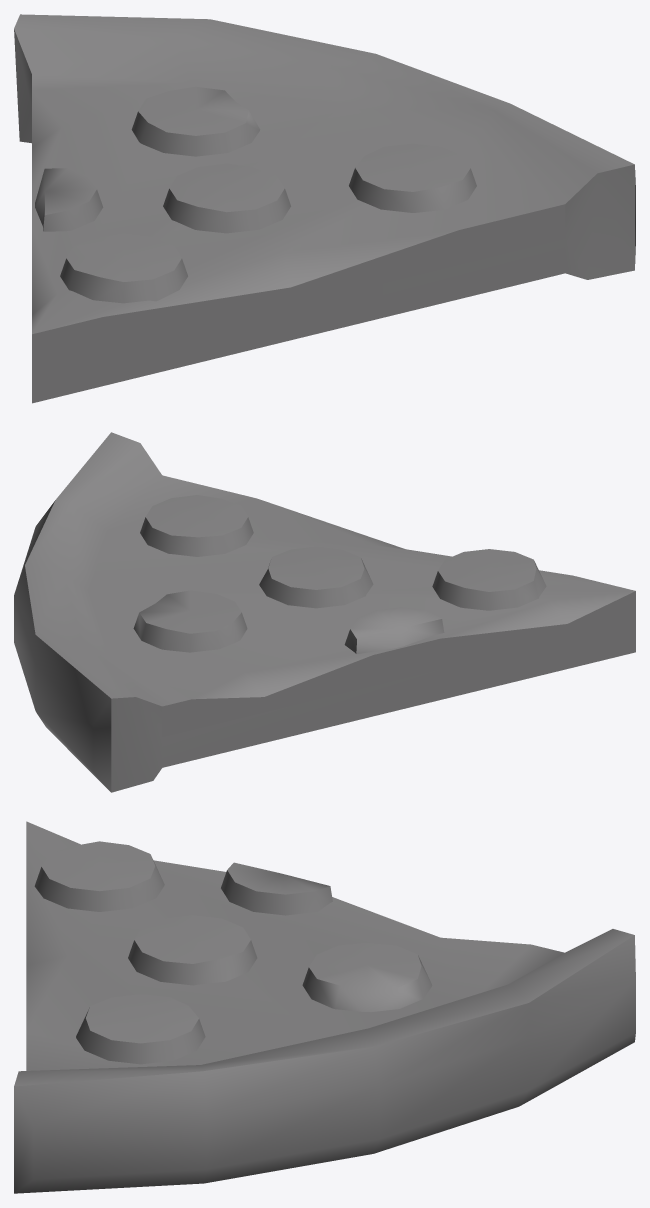
File: SM_Pizza_02.obj
3 renders of one model, top to bottom at view 1: azimuth 30°, elevation 25°; view 2: azimuth 150°, elevation 25°; view 3: azimuth 270°, elevation 25°, orthographic. The views are drawn at different scales.
Visible parts, largest first — view 1: SM_Pizza_02_Mat_PolygonCity_Texture_01_A; view 2: SM_Pizza_02_Mat_PolygonCity_Texture_01_A; view 3: SM_Pizza_02_Mat_PolygonCity_Texture_01_A.
Part boxes in pixels (bbox=[...]): SM_Pizza_02_Mat_PolygonCity_Texture_01_A: bbox=[14, 14, 635, 403]; SM_Pizza_02_Mat_PolygonCity_Texture_01_A: bbox=[14, 432, 635, 792]; SM_Pizza_02_Mat_PolygonCity_Texture_01_A: bbox=[14, 821, 635, 1193].
Bounding box in the file's own units: 0.5052 × 0.0843 × 0.4435.
1 material, 1 textured.
